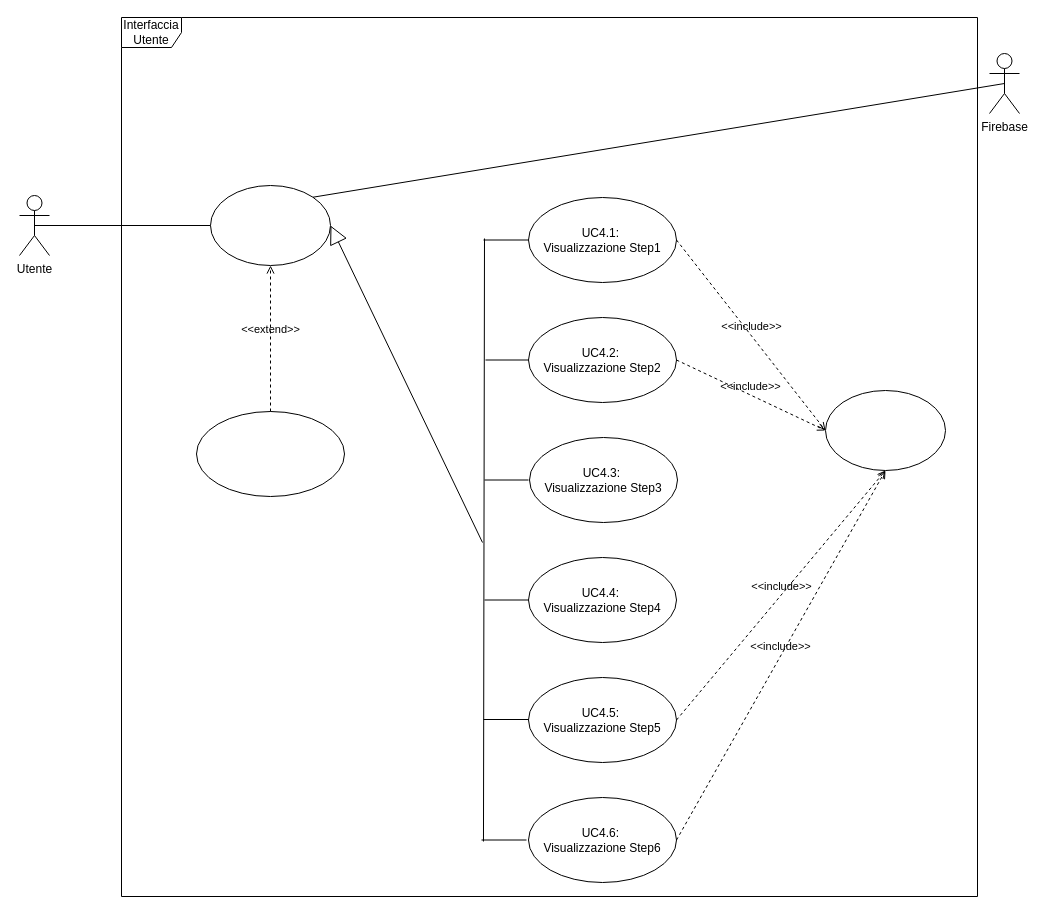
The diagram is 1045 pixels wide and 914 high, and some of its shapes have lost their labels. The shapes that lost their labels are listed below. From the top down, each one's box as (x1, y1, x2, y2) in pixels, then its label:
(210, 184, 330, 266): UC04 Visualizzazione Step progressivi
(824, 390, 946, 470): UC4.1.1 Drag and Drop
(196, 410, 344, 496): UC3.1: Messaggiodi errore generico in caso di fallimento recupero `currentStep`
